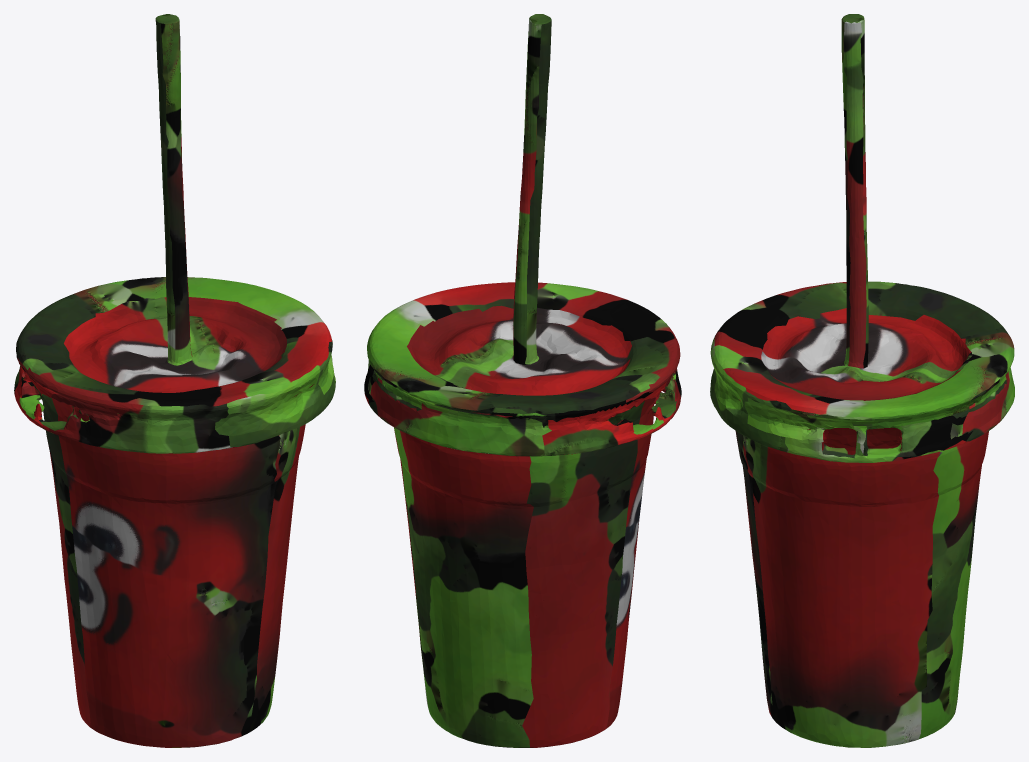
Rendered from sample.obj.
The picture shows the model from 3 angles, left to right: view 1: azimuth 30°, elevation 25°; view 2: azimuth 150°, elevation 25°; view 3: azimuth 270°, elevation 25°; orthographic projection.
Size of the model in its own units: 0.0576 by 0.135 by 0.0545.
